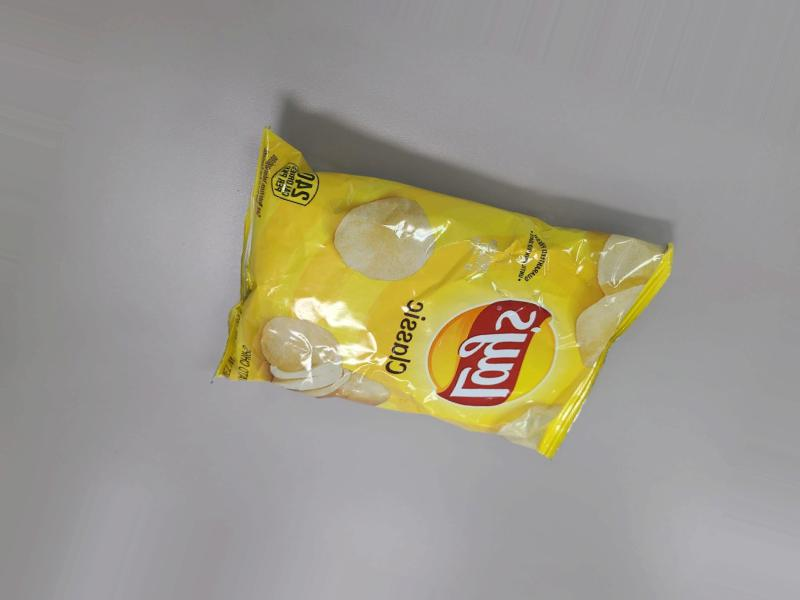lays: (252, 128, 632, 458)
